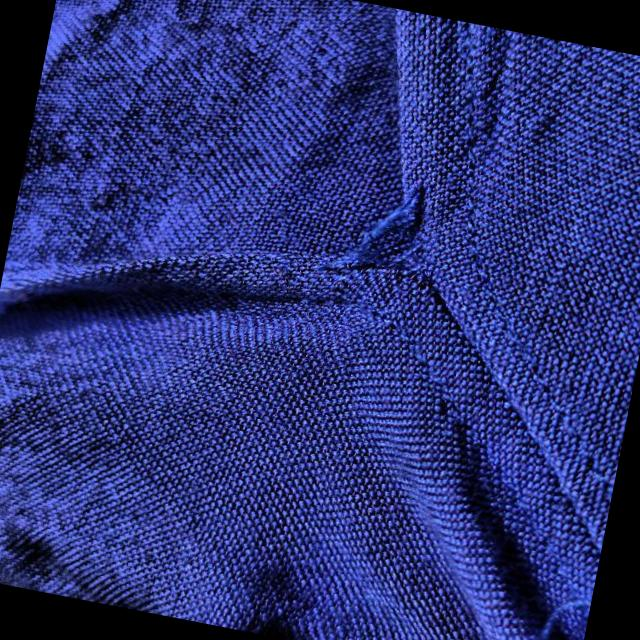gray stitch: (296, 148, 470, 334)
